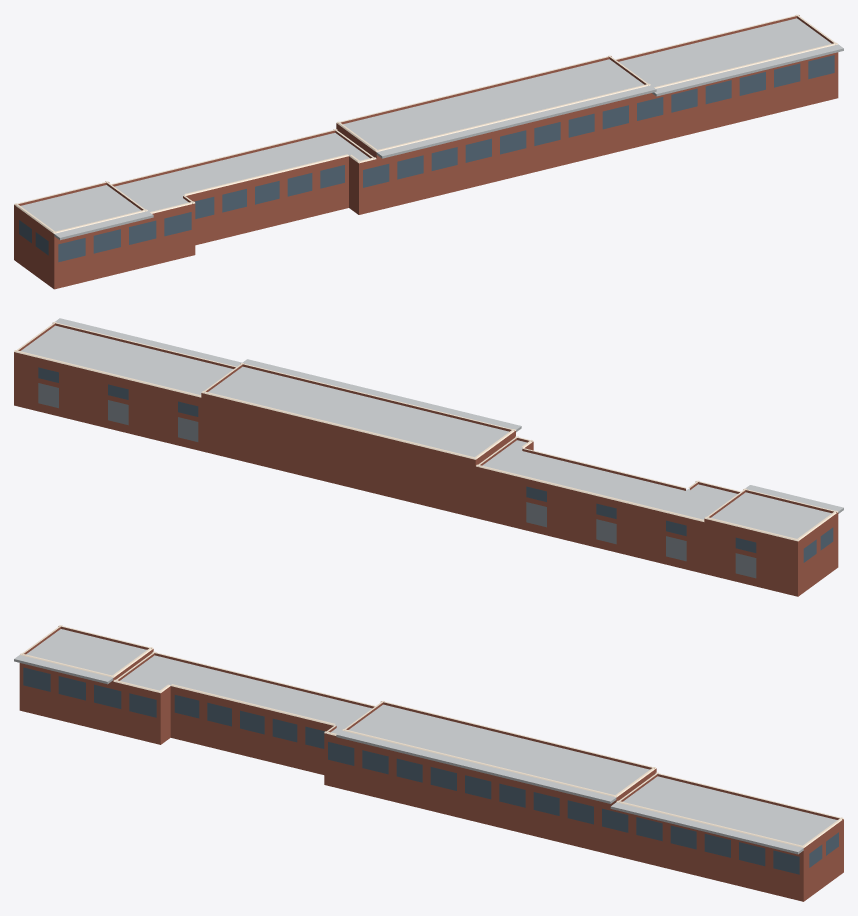
The model's file is clt-cne-raceway-building.glb.
The picture shows the model from 3 angles, top to bottom: view 1: azimuth 30°, elevation 25°; view 2: azimuth 150°, elevation 25°; view 3: azimuth 330°, elevation 25°; orthographic projection.
Visible parts, largest first — view 1: Raceway Building, Camp North End; view 2: Raceway Building, Camp North End; view 3: Raceway Building, Camp North End.
Boxes of the visible parts, bbox=[...] form: Raceway Building, Camp North End: bbox=[14, 14, 843, 289]; Raceway Building, Camp North End: bbox=[14, 318, 843, 596]; Raceway Building, Camp North End: bbox=[14, 625, 843, 901].
Bounding box in the file's own units: 137 × 9.9 × 13.95.
